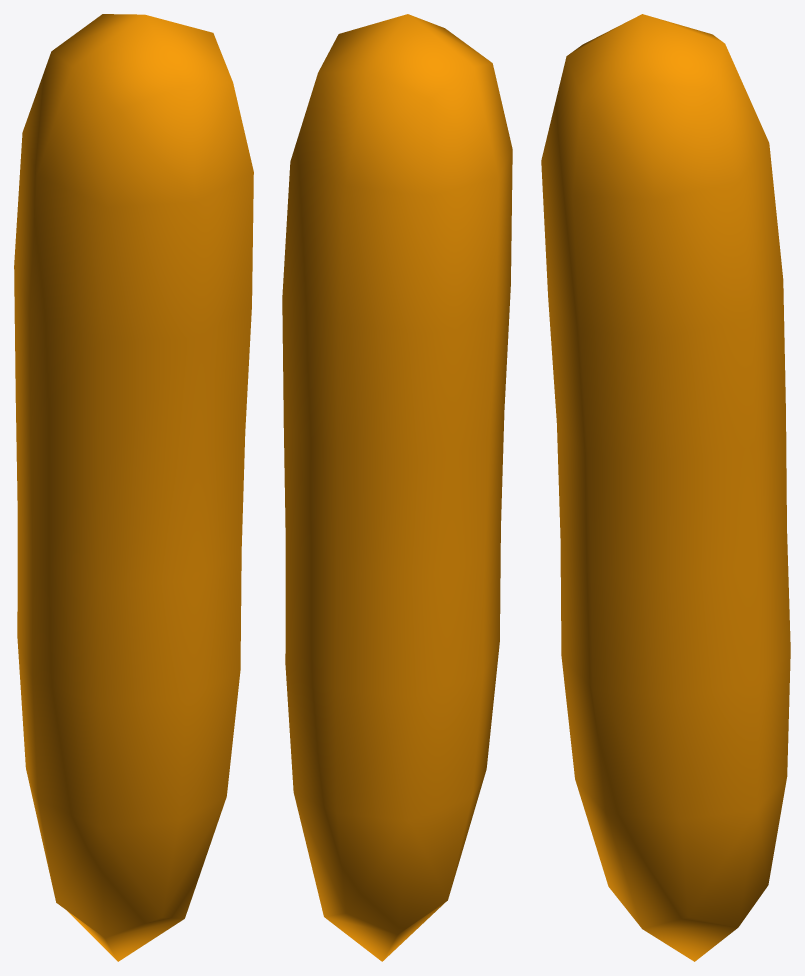
Rendered from birdupleg 0.obj.
The picture shows the model from 3 angles, left to right: view 1: azimuth 30°, elevation 25°; view 2: azimuth 150°, elevation 25°; view 3: azimuth 270°, elevation 25°; orthographic projection. The views are drawn at different scales.
Parts seen in each view (by area): view 1: Cube.001_Cube.002; view 2: Cube.001_Cube.002; view 3: Cube.001_Cube.002.
Boxes of the visible parts, x1,y1,x2,y2 form: Cube.001_Cube.002: [14, 14, 253, 961]; Cube.001_Cube.002: [282, 14, 512, 961]; Cube.001_Cube.002: [541, 14, 790, 961].
Size of the model in its own units: 0.2294 by 1.02 by 0.2441.
